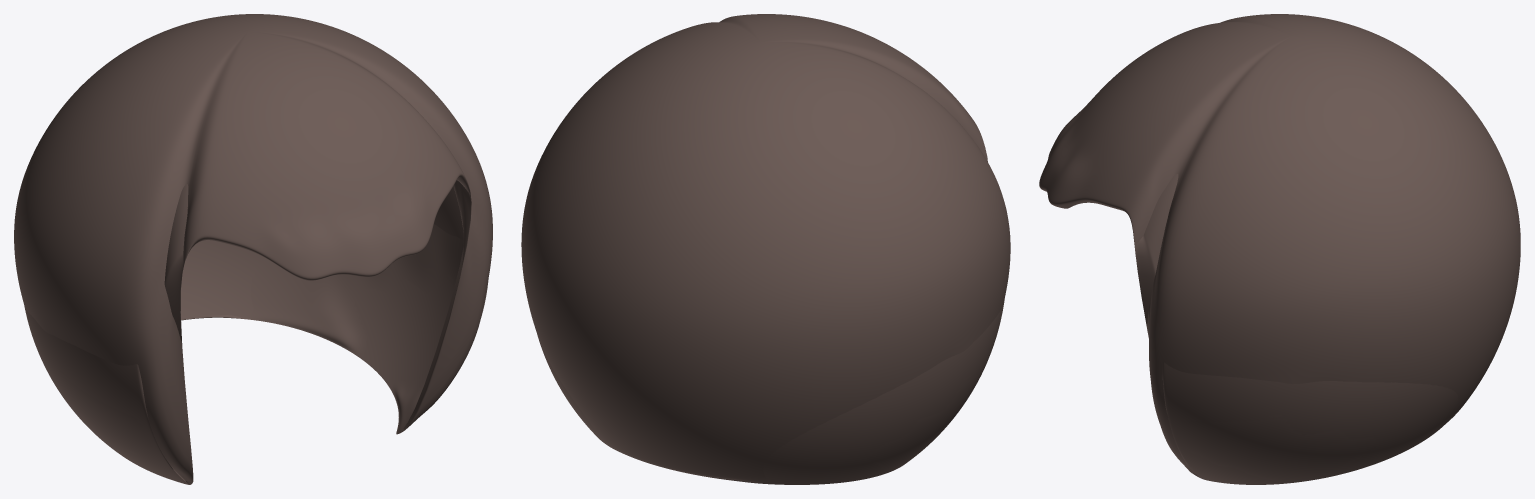
File: Hair_03_SleekBob.glb
3 views of the same model, side by side, from view 1: azimuth 30°, elevation 25°; view 2: azimuth 150°, elevation 25°; view 3: azimuth 270°, elevation 25° (orthographic). The views are drawn at different scales.
Parts seen in each view (by area): view 1: Hair_03_SleekBob; view 2: Hair_03_SleekBob; view 3: Hair_03_SleekBob.
Boxes of the visible parts, x1,y1,x2,y2 form: Hair_03_SleekBob: (14,14,492,484); Hair_03_SleekBob: (521,14,1010,484); Hair_03_SleekBob: (1039,14,1520,484).
Bounding box in the file's own units: 1.06 × 0.9635 × 1.07.
